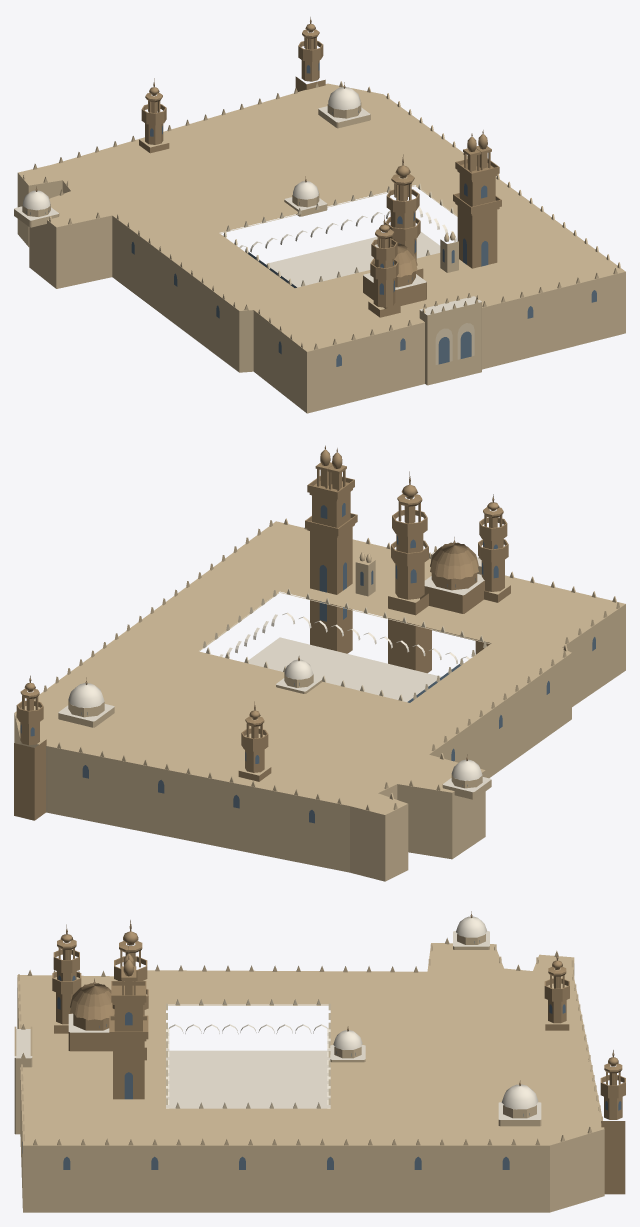
Rendered from cairo-al-azhar-mosque.glb.
The picture shows the model from 3 angles, top to bottom: view 1: azimuth 30°, elevation 25°; view 2: azimuth 150°, elevation 25°; view 3: azimuth 270°, elevation 25°; orthographic projection. The views are drawn at different scales.
Visible parts, largest first — view 1: Al-Azhar Mosque; view 2: Al-Azhar Mosque; view 3: Al-Azhar Mosque.
Part boxes in pixels (x1=…): Al-Azhar Mosque: x1=14, y1=17, x2=625, y2=413; Al-Azhar Mosque: x1=14, y1=445, x2=625, y2=881; Al-Azhar Mosque: x1=14, y1=911, x2=625, y2=1212.
Bounding box in the file's own units: 108 × 50.2 × 132.
